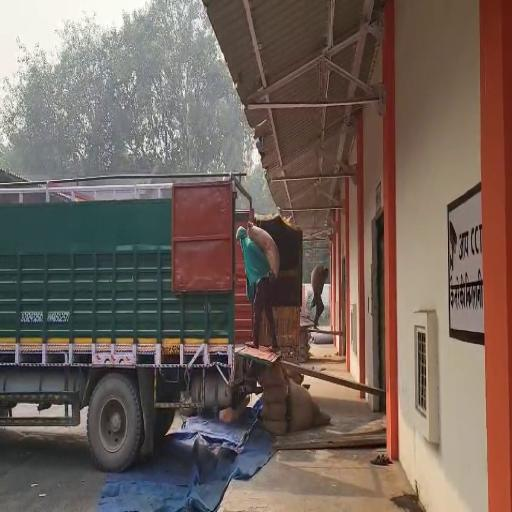bag: (246, 216, 282, 276)
